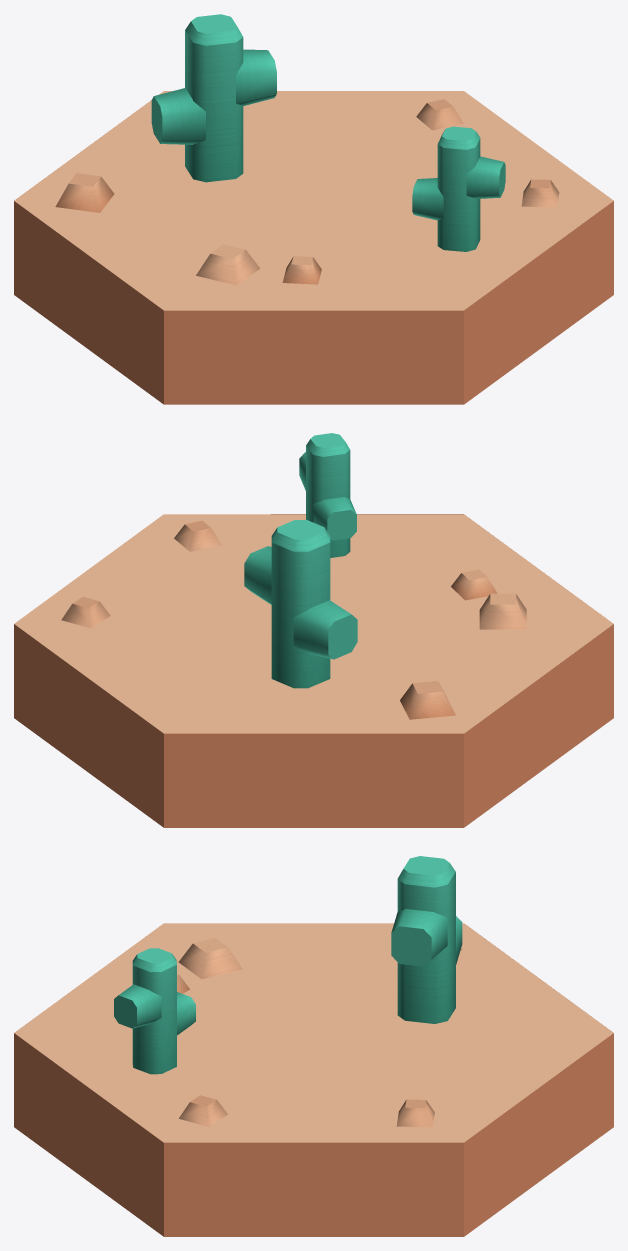
File: sand_cactus.glb
3 renders of one model, top to bottom at view 1: azimuth 30°, elevation 25°; view 2: azimuth 150°, elevation 25°; view 3: azimuth 270°, elevation 25°, orthographic.
Visible parts, largest first — view 1: sand-desert; view 2: sand-desert; view 3: sand-desert.
Boxes of the visible parts, left/top/right/bottom form: sand-desert: left=14, top=14, right=613, bottom=404; sand-desert: left=14, top=433, right=613, bottom=827; sand-desert: left=14, top=856, right=613, bottom=1236.
Size of the model in its own units: 1 by 0.51 by 1.15.
Materials: 1 (1 with a texture image).
